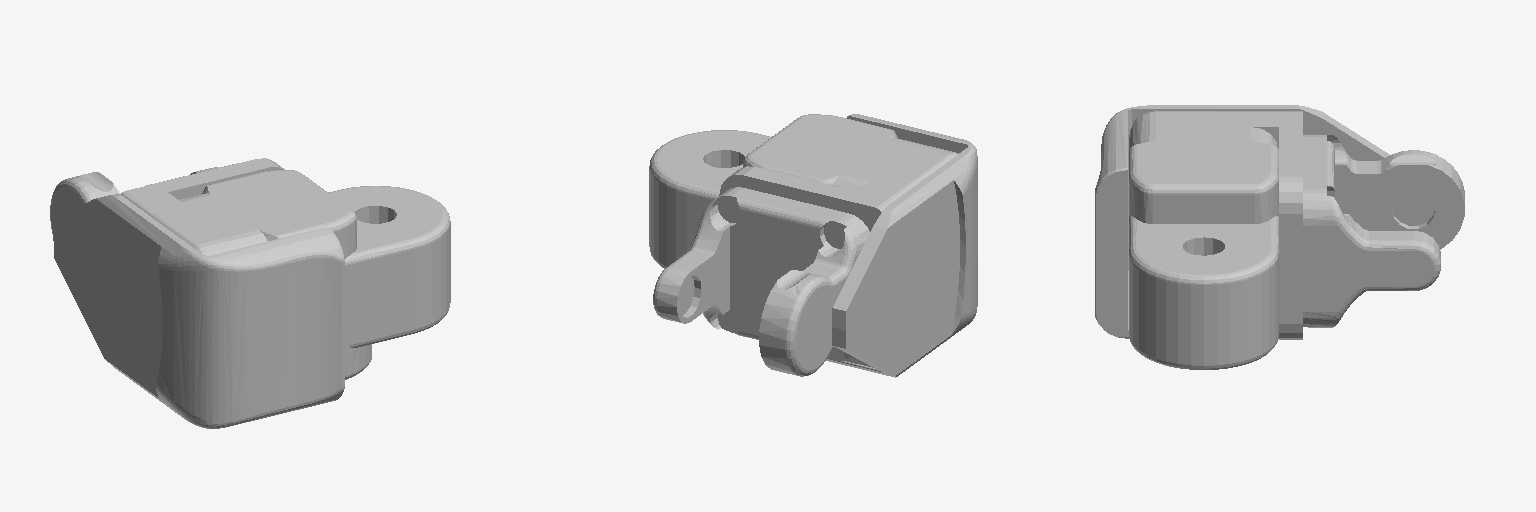
The model's file is ll_dg_2_1_c_mesh_World_mesh.obj.
The picture shows the model from 3 angles: view 1: azimuth 30°, elevation 25°; view 2: azimuth 150°, elevation 25°; view 3: azimuth 270°, elevation 25°; orthographic projection.
Size of the model in its own units: 0.0428 by 0.0239 by 0.0467.